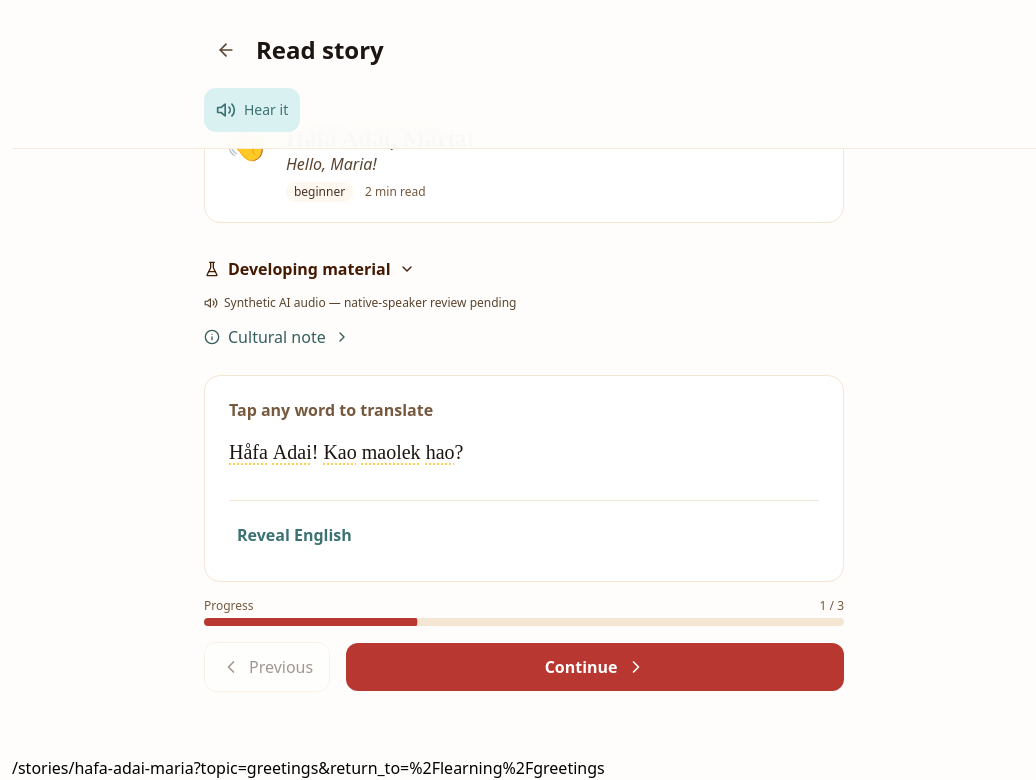
Test: topic surface navigation › returns a related story to its workspace
(page scrolled)
Click the link named "Back to Greetings & Basics": (226, 50) x1=216 y1=40 x2=236 y2=60
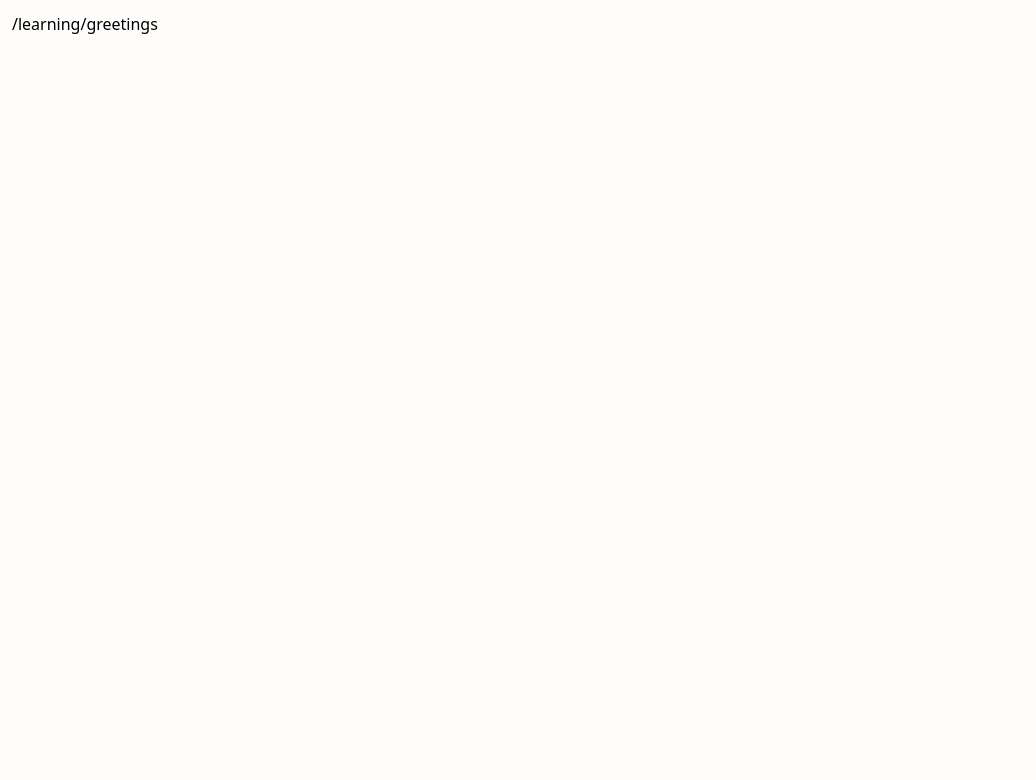
Check: the text with test id "current-location" reads "/learning/greetings", box x1=12 y1=13 x2=158 y2=35
